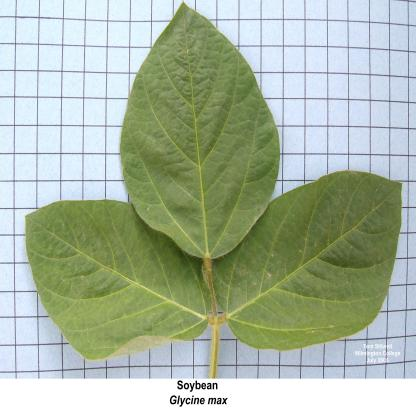soybean leaf: (117, 0, 281, 263), (215, 170, 405, 355), (20, 198, 210, 358)
